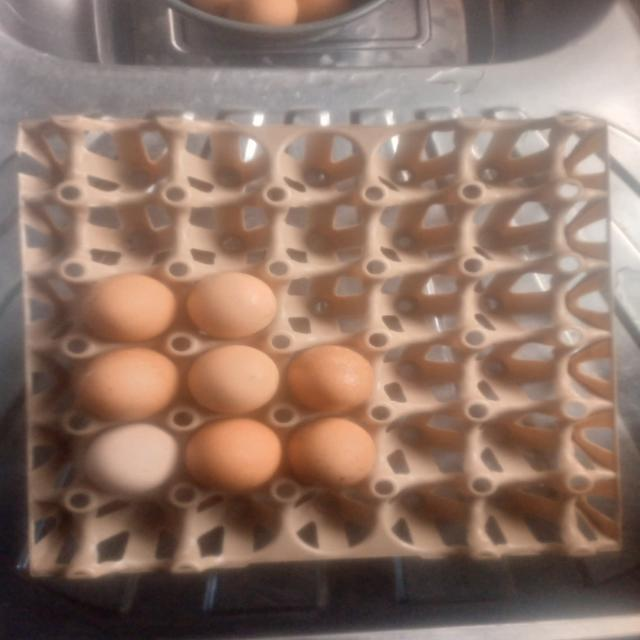Eggs: (189, 417, 285, 498), (74, 346, 174, 423), (74, 272, 180, 340), (82, 428, 183, 498), (292, 418, 379, 492), (185, 345, 281, 412), (189, 274, 279, 341), (292, 348, 379, 414)
